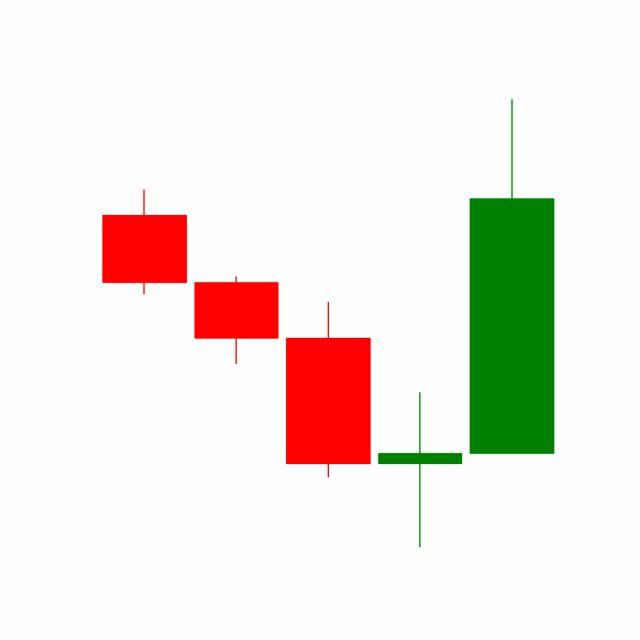Spinning Top: (374, 392, 468, 550)
